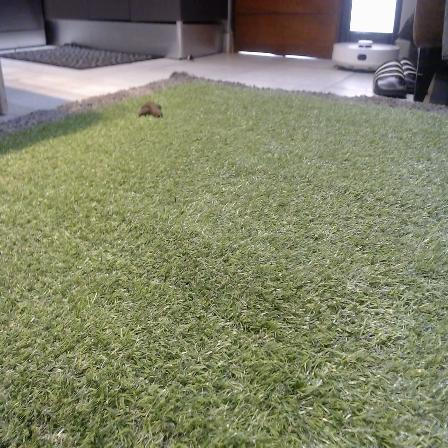dog-poop: (138, 100, 166, 120)
